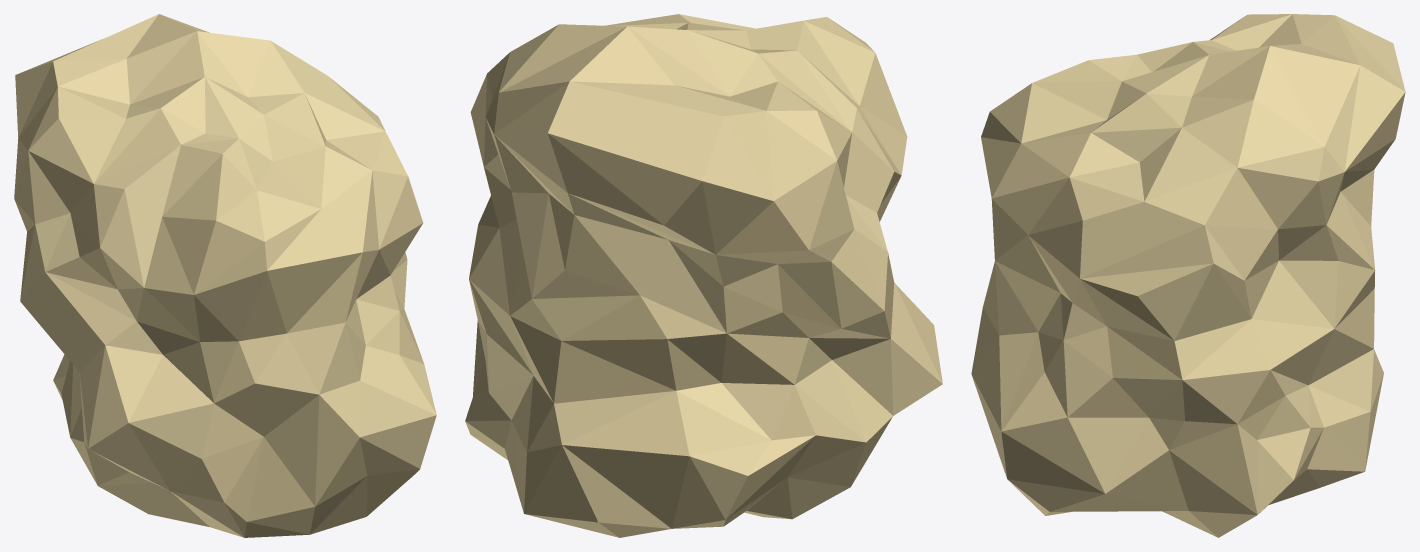
Rendered from Asteroid (90).fbx.
3 renders of one model, left to right at view 1: azimuth 30°, elevation 25°; view 2: azimuth 150°, elevation 25°; view 3: azimuth 270°, elevation 25°, orthographic. The views are drawn at different scales.
Parts seen in each view (by area): view 1: Asteroid150; view 2: Asteroid150; view 3: Asteroid150.
Part boxes in pixels (x1,y1,x2,y2): Asteroid150: [14, 14, 436, 537]; Asteroid150: [465, 14, 942, 537]; Asteroid150: [971, 14, 1405, 537].
Bounding box in the file's own units: 297 × 338 × 294.
